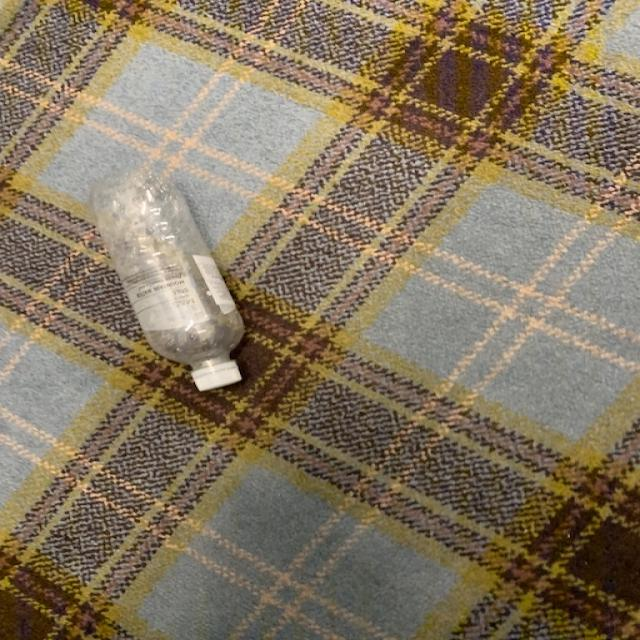Waste: (91, 169, 244, 391)
